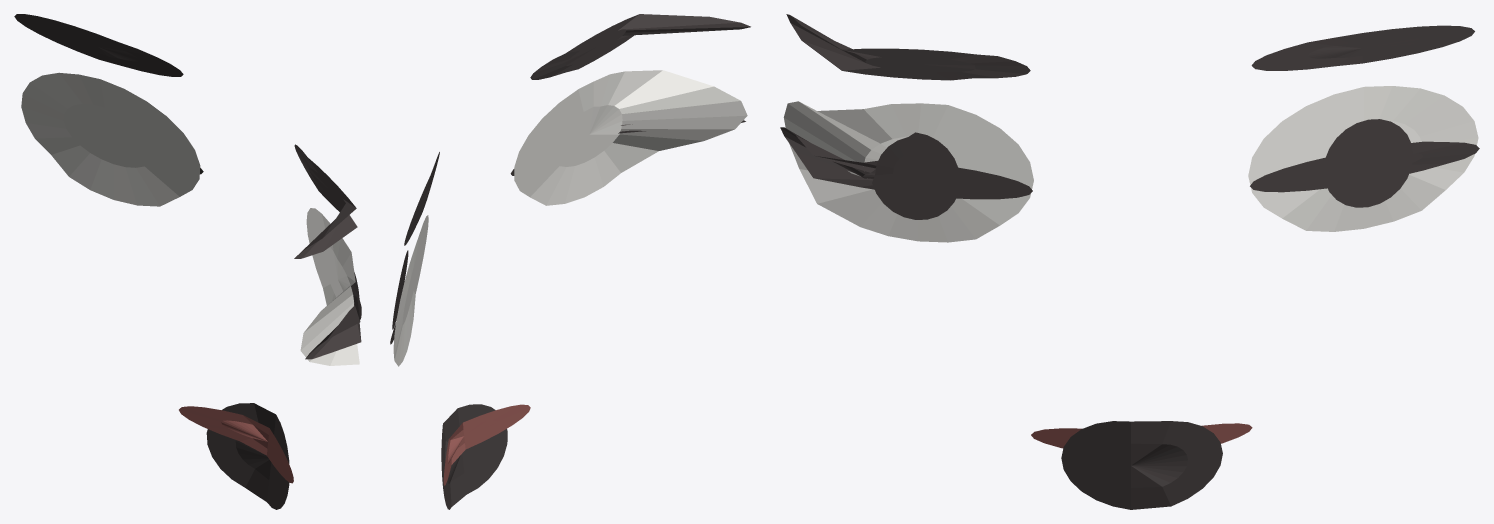
Rendered from char_newton_face.glb.
3 renders of one model, left to right at view 1: azimuth 30°, elevation 25°; view 2: azimuth 150°, elevation 25°; view 3: azimuth 270°, elevation 25°, orthographic. The views are drawn at different scales.
Parts seen in each view (by area): view 1: eye_white_L, eye_white_R, mouth_open, brow_L, mouth_line, brow_R, eye_closed_R; view 2: eye_white_R, brow_R, mouth_open, mouth_line, eye_white_L, brow_L; view 3: eye_white_R, eye_white_L, mouth_open, pupil_L, brow_R, pupil_R, brow_L, eye_closed_R, eye_closed_L, mouth_line.
Part boxes in pixels (x1=…): eye_white_L: x1=21, y1=72, x2=200, y2=206; eye_white_R: x1=300, y1=208, x2=359, y2=365; mouth_open: x1=206, y1=403, x2=289, y2=509; brow_L: x1=14, y1=14, x2=183, y2=76; mouth_line: x1=179, y1=406, x2=293, y2=483; brow_R: x1=294, y1=144, x2=357, y2=258; eye_closed_R: x1=305, y1=290, x2=361, y2=359; eye_white_R: x1=514, y1=70, x2=747, y2=205; brow_R: x1=530, y1=14, x2=750, y2=79; mouth_open: x1=441, y1=404, x2=507, y2=509; mouth_line: x1=443, y1=404, x2=530, y2=485; eye_white_L: x1=393, y1=215, x2=428, y2=366; brow_L: x1=404, y1=152, x2=439, y2=245; eye_white_R: x1=783, y1=101, x2=1033, y2=242; eye_white_L: x1=1248, y1=86, x2=1478, y2=231; mouth_open: x1=1061, y1=421, x2=1222, y2=509; pupil_L: x1=1323, y1=119, x2=1413, y2=207; brow_R: x1=786, y1=14, x2=1030, y2=80; pupil_R: x1=872, y1=132, x2=960, y2=219; brow_L: x1=1251, y1=25, x2=1474, y2=70; eye_closed_R: x1=780, y1=127, x2=1032, y2=199; eye_closed_L: x1=1250, y1=141, x2=1479, y2=192; mouth_line: x1=1031, y1=423, x2=1252, y2=448.
Size of the model in its own units: 0.0181 by 0.0501 by 0.0718.
